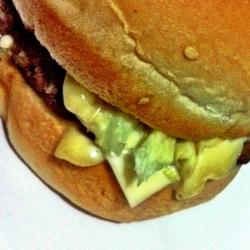burger: (1, 1, 249, 228)
